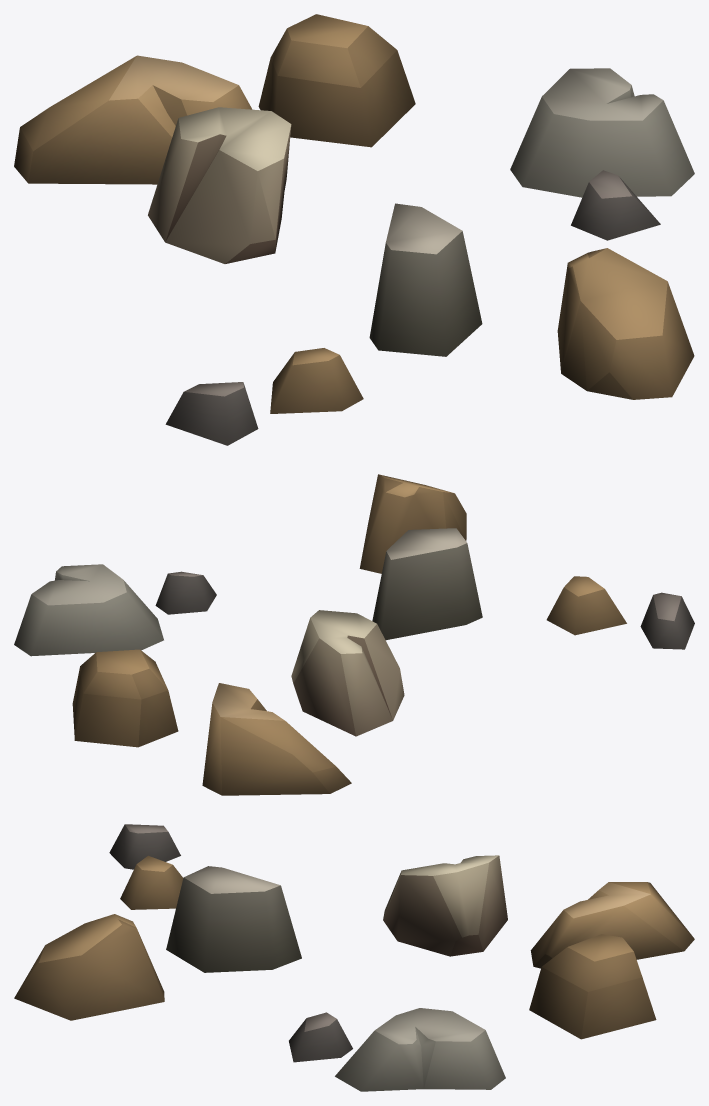
The model's file is Rock_Cluster_3C.fbx.
3 views of the same model, one above another, from view 1: azimuth 30°, elevation 25°; view 2: azimuth 150°, elevation 25°; view 3: azimuth 270°, elevation 25° (orthographic). The views are drawn at different scales.
Visible parts, largest first — view 1: Rock_Cluster_3C; view 2: Rock_Cluster_3C; view 3: Rock_Cluster_3C.
Part boxes in pixels (left/top/right/bottom): Rock_Cluster_3C: left=14, top=14, right=694, bottom=445; Rock_Cluster_3C: left=14, top=474, right=694, bottom=795; Rock_Cluster_3C: left=14, top=824, right=694, bottom=1091.
Size of the model in its own units: 357 by 55.25 by 414.
